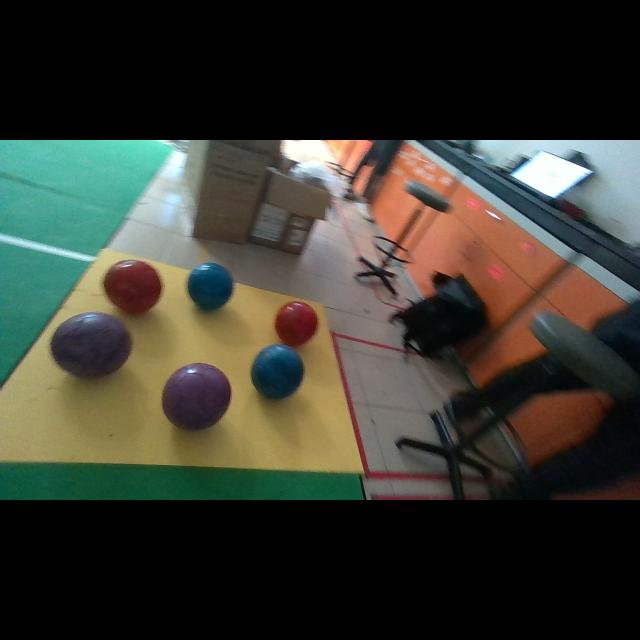B: (251, 344, 304, 399), (188, 262, 234, 310)
P: (51, 312, 131, 379), (162, 362, 231, 430)
R: (104, 260, 161, 314), (275, 301, 319, 346)
